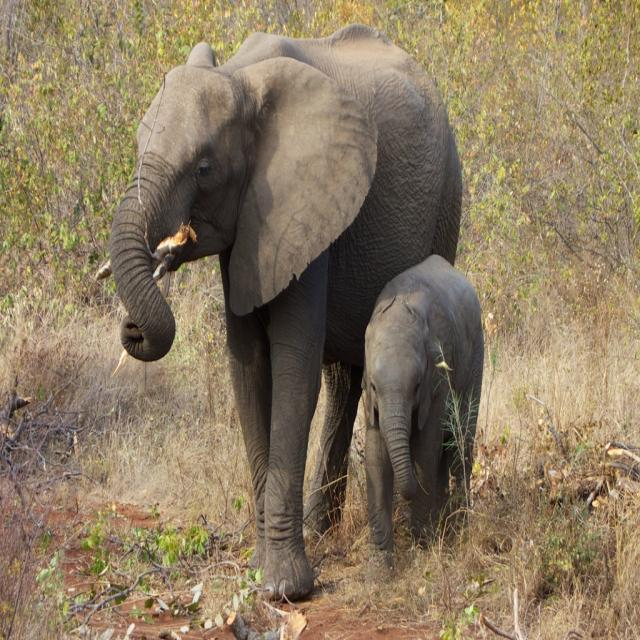elephant: (96, 39, 475, 600), (362, 246, 488, 586)
